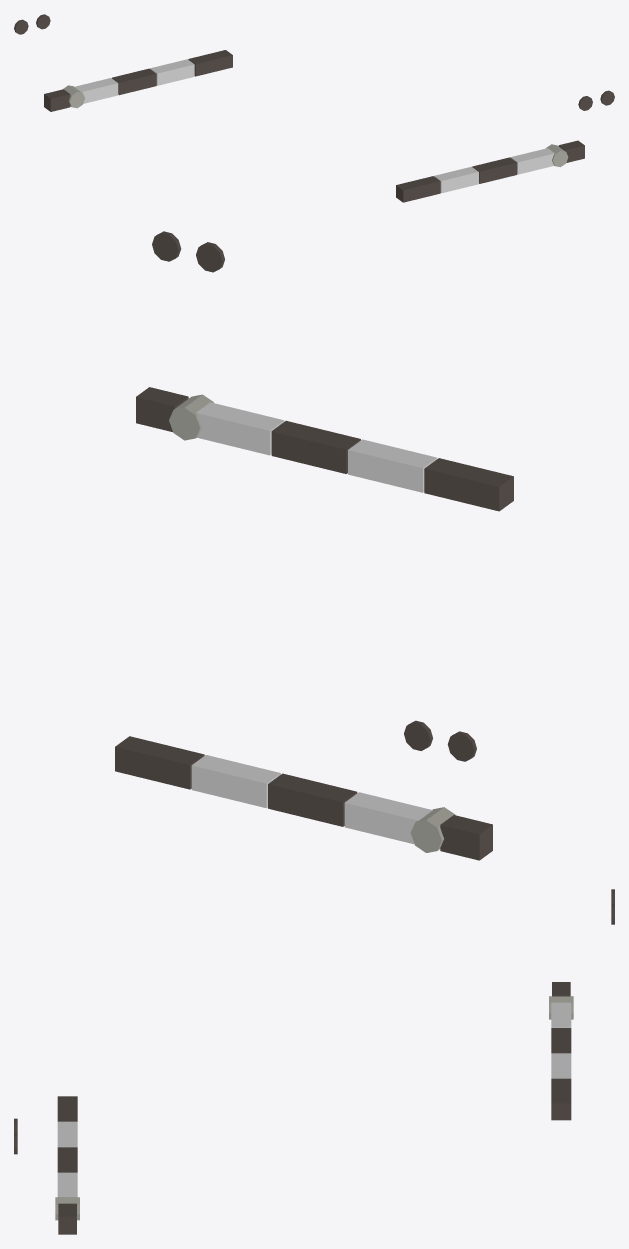
The model's file is SM_PasoNivel_90_v3_Militar_LOD1.fbx.
3 renders of one model, top to bottom at view 1: azimuth 30°, elevation 25°; view 2: azimuth 150°, elevation 25°; view 3: azimuth 270°, elevation 25°, orthographic. The views are drawn at different scales.
Parts seen in each view (by area): view 1: Barrera_1, Barrera_2, Luces_A, Luces_B; view 2: Barrera_2, Barrera_1, Luces_B, Luces_A; view 3: Barrera_1, Barrera_2.
Part boxes in pixels (x1,y1,x2,y2): Barrera_1: [396, 140, 584, 202]; Barrera_2: [44, 50, 232, 111]; Luces_A: [14, 19, 592, 110]; Luces_B: [36, 14, 614, 105]; Barrera_2: [115, 736, 492, 860]; Barrera_1: [136, 387, 513, 511]; Luces_B: [152, 231, 432, 750]; Luces_A: [196, 242, 476, 761]; Barrera_1: [55, 1096, 79, 1234]; Barrera_2: [549, 982, 573, 1120].
Size of what is drawn, in the model's own units: 9.7 by 1.91 by 9.74.
